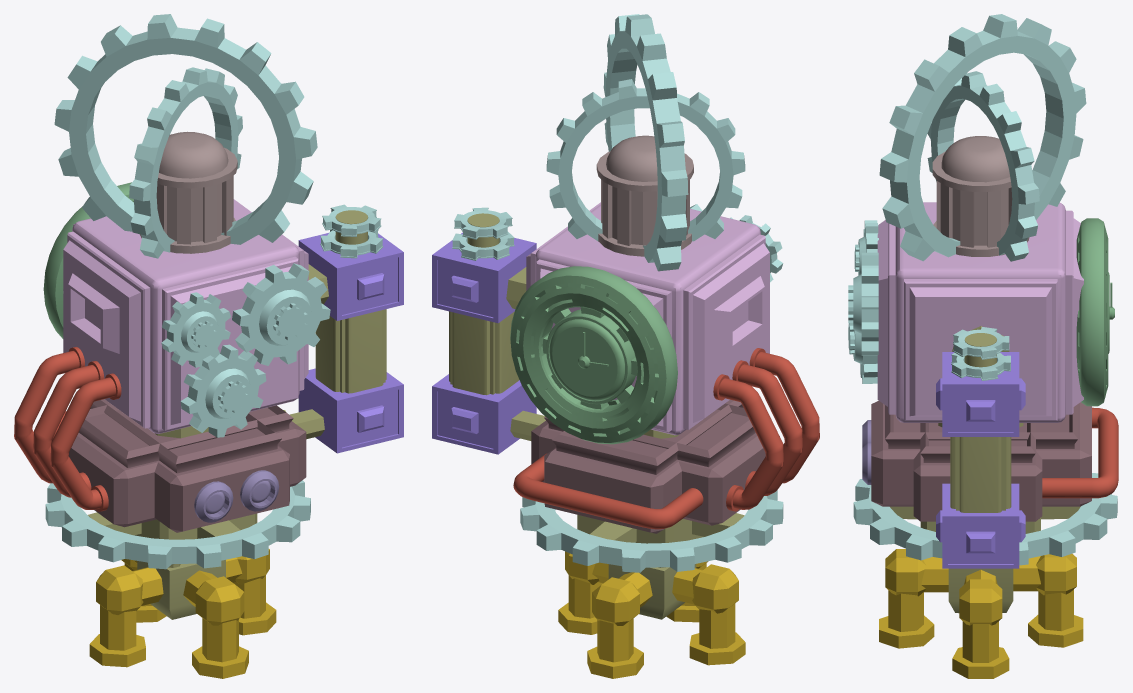
The model's file is Tower_uv.fbx.
3 views of the same model, side by side, from view 1: azimuth 30°, elevation 25°; view 2: azimuth 150°, elevation 25°; view 3: azimuth 270°, elevation 25° (orthographic).
Visible parts, largest first — view 1: Bloc_central, Bloc_inférieur, pCylinder22, pCylinder36, Tour_superieur, pCylinder21, pCylinder19, pCube33, pCube18, pasted__pCylinder20, pCube19, pCylinder5 (+15 smaller); view 2: Bloc_central, pTorus3, Bloc_inférieur, pCylinder22, pCylinder21, pCylinder36, Tour_superieur, pCylinder16, pCube18, pCube33, pCylinder5, pCylinder4 (+14 smaller); view 3: Bloc_central, pCylinder22, Bloc_inférieur, Tour_superieur, pCylinder21, pCylinder36, pTorus3, pCube18, pCube33, pCylinder6, pCube19, pCylinder4 (+10 smaller).
Boxes of the visible parts, box(x1,y1,x2,y2) form: Bloc_central: box(63, 199, 308, 433); Bloc_inférieur: box(68, 399, 306, 532); pCylinder22: box(54, 14, 317, 244); pCylinder36: box(45, 480, 310, 569); Tour_superieur: box(140, 131, 237, 253); pCylinder21: box(129, 67, 242, 258); pCylinder19: box(232, 263, 330, 365); pCube33: box(298, 368, 403, 453); pCube18: box(298, 233, 403, 320); pasted__pCylinder20: box(180, 344, 266, 437); pCube19: box(315, 309, 386, 393); pCylinder5: box(89, 565, 163, 667); Bloc_central: box(526, 202, 769, 435); pTorus3: box(510, 266, 677, 444); Bloc_inférieur: box(531, 399, 779, 533); pCylinder22: box(603, 14, 688, 271); pCylinder21: box(546, 79, 745, 241); pCylinder36: box(520, 490, 783, 572); Tour_superieur: box(596, 135, 693, 256); pCylinder16: box(546, 309, 635, 404); pCube18: box(432, 232, 536, 323); pCube33: box(432, 374, 536, 454); pCylinder5: box(672, 564, 745, 665); pCylinder4: box(587, 572, 652, 678); Bloc_central: box(877, 202, 1083, 422); pCylinder22: box(879, 14, 1086, 261); Bloc_inférieur: box(871, 400, 1091, 521); Tour_superieur: box(932, 136, 1029, 256); pCylinder21: box(927, 71, 1039, 261); pCylinder36: box(853, 473, 1117, 565); pTorus3: box(1076, 218, 1108, 406); pCube18: box(936, 352, 1025, 436); pCube33: box(936, 483, 1025, 568); pCylinder6: box(879, 549, 948, 648); pCube19: box(950, 437, 1011, 512); pCylinder4: box(1013, 553, 1083, 647).
Bounding box in the file's own units: 35967 × 59346 × 23701.
